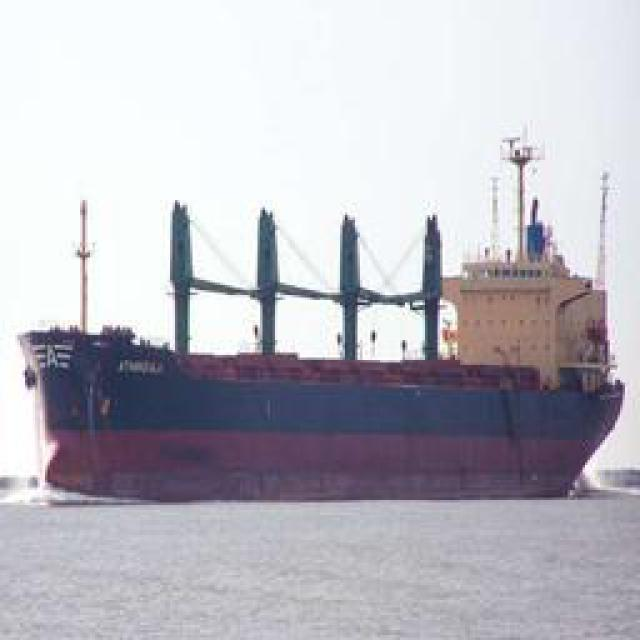Ship: (13, 190, 628, 500)
